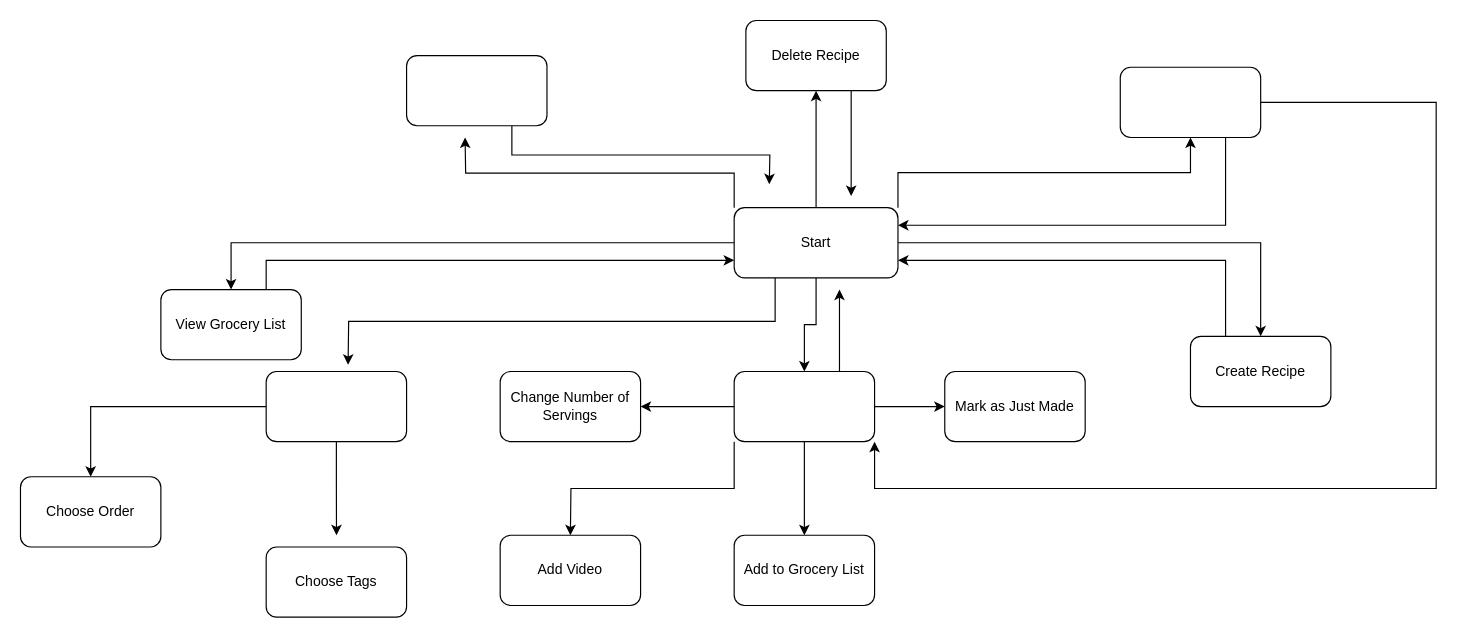
This 1466x638 diagram has some shape labels left out. Each missing label, with the centre of its shape:
Edit Recipe: pixel 476 90
Search: pixel 1190 101
Sort: pixel 336 406
View Recipe: pixel 804 406
